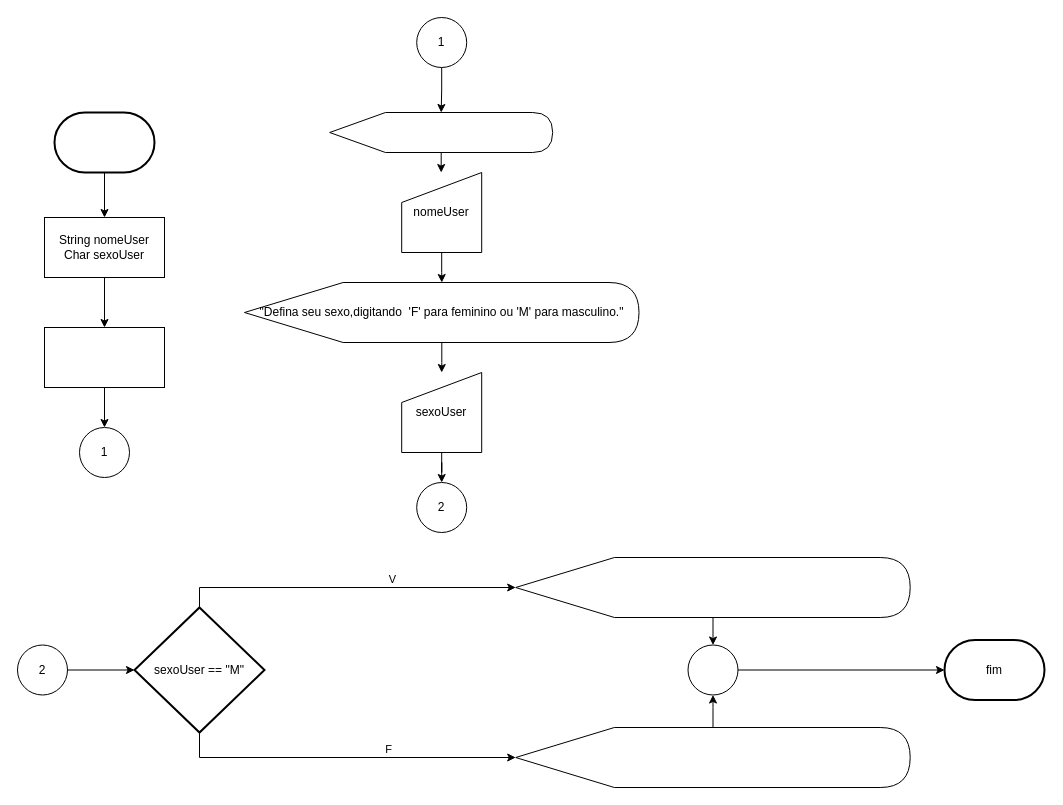
The diagram is 1063 pixels wide and 805 high, and some of its shapes have lost their labels. The centre of each missing label's shape, as x and y in pixels:
"Insira seu nome de usuário:": the point at 441,132
"O nome do usuario é , " + nomeUser " e seu sexo é feminino.": the point at 712,757
"O nome do usuario é , " + nomeUser " e seu sexo é masculino.": the point at 712,587
Inicio: the point at 104,142
nomeUser = "" SexoUser = "": the point at 104,357
